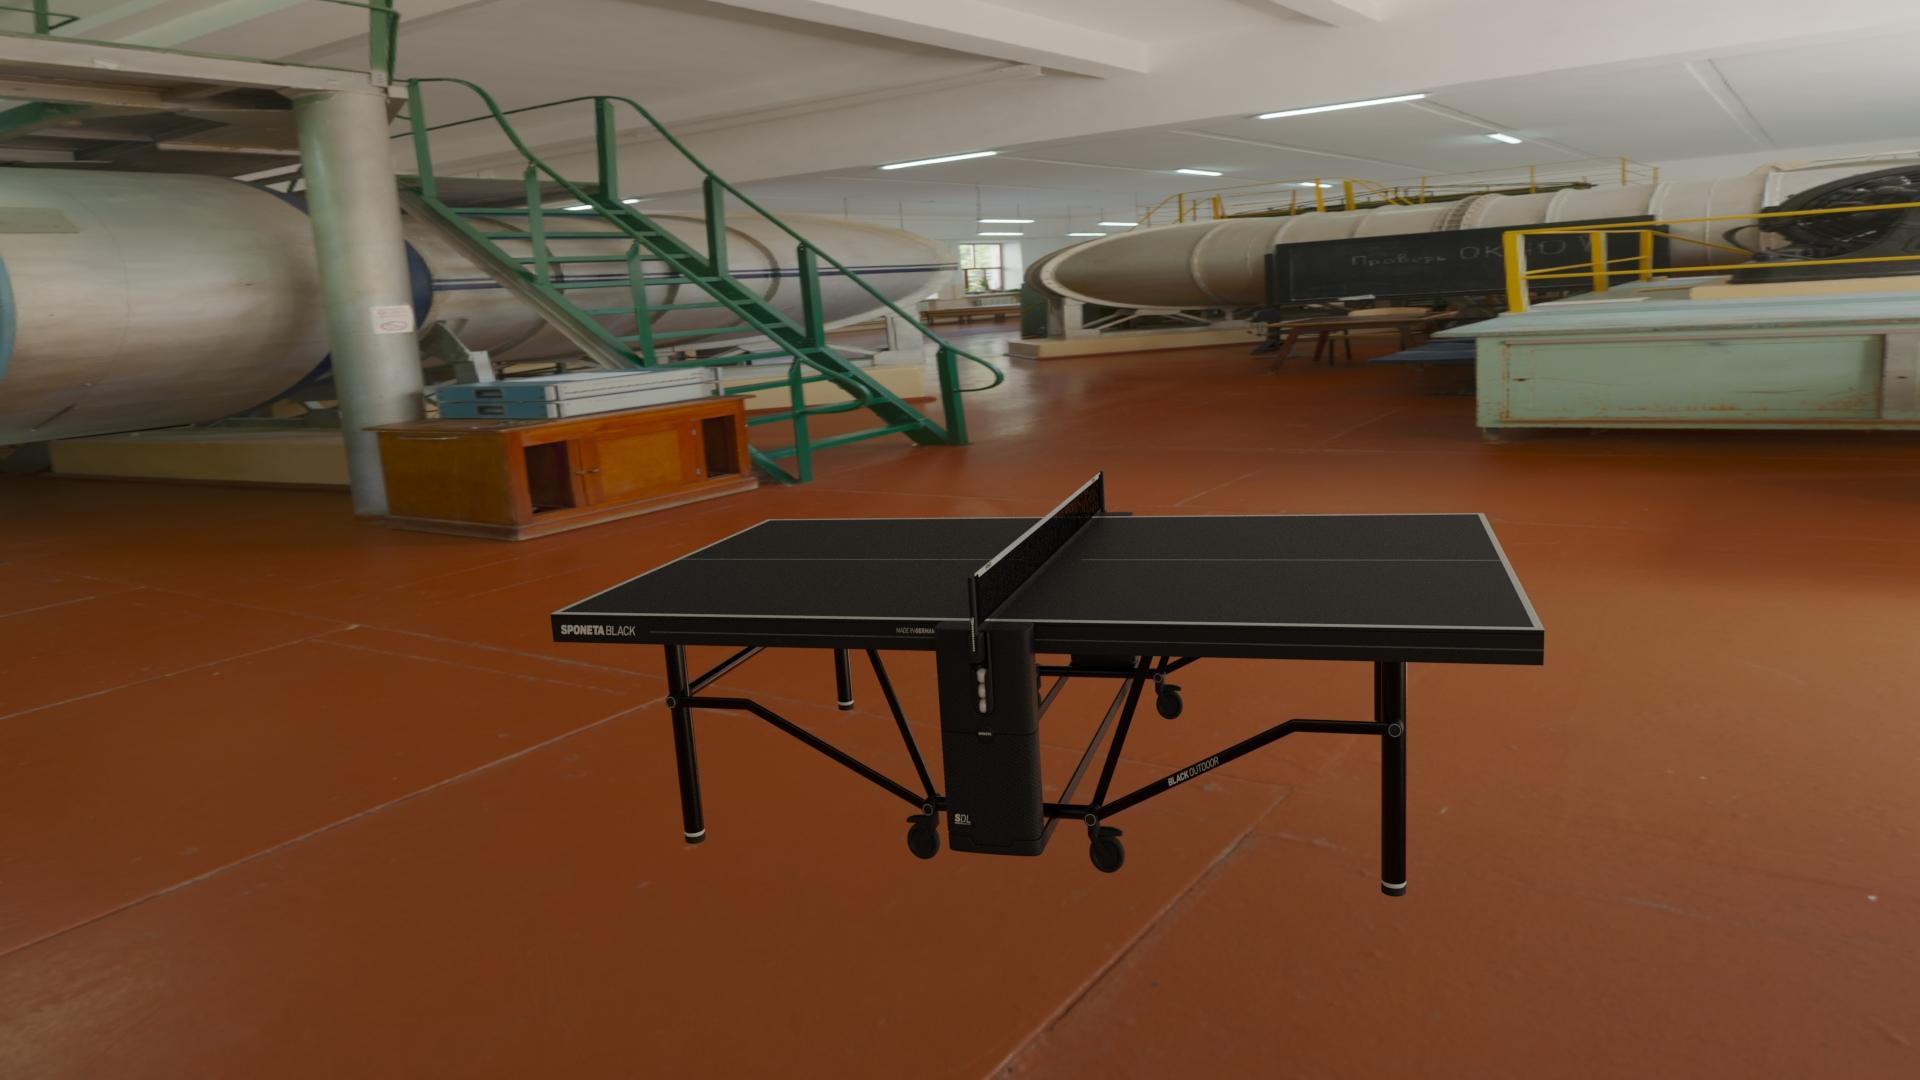table: (559, 514, 1535, 628)
